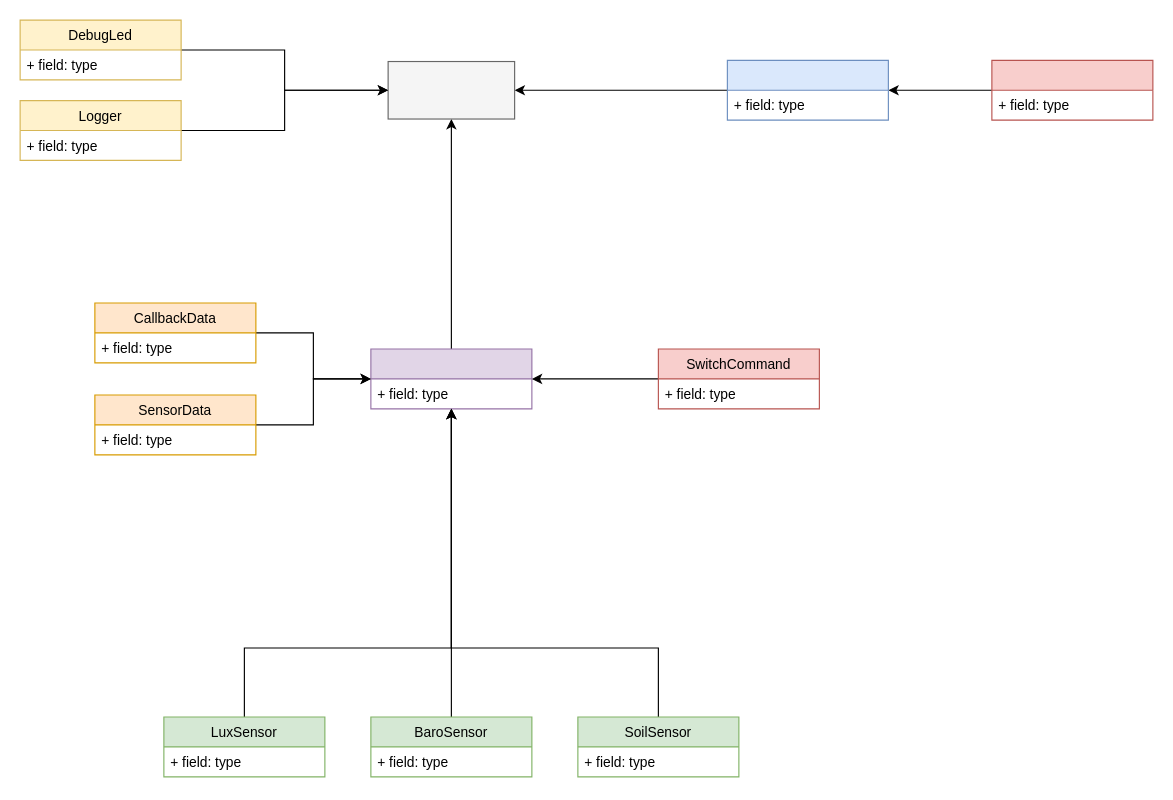
This 1173x800 diagram has some shape labels left out. Here are the shapes that lost their labels. From the top down, the box of each, then its label:
(387, 60, 515, 119): Main
(726, 59, 888, 120): SprinkleCommand
(991, 59, 1153, 120): RelayCommand
(370, 348, 532, 409): Sigfox
